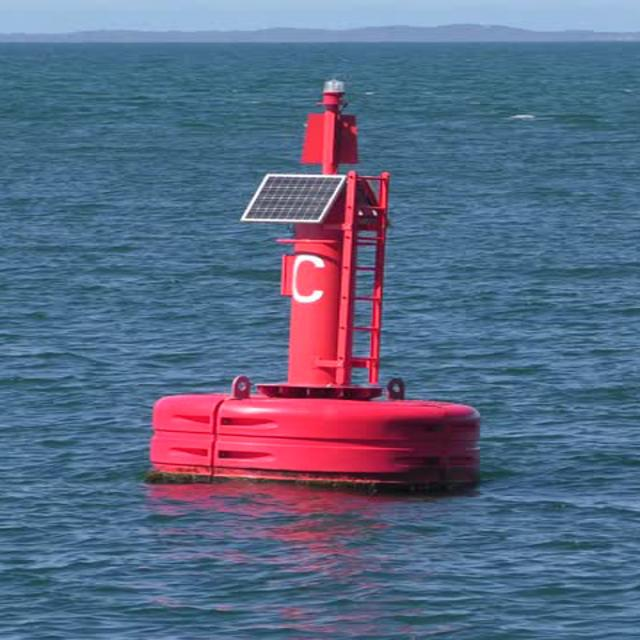buoy: (140, 79, 489, 488)
